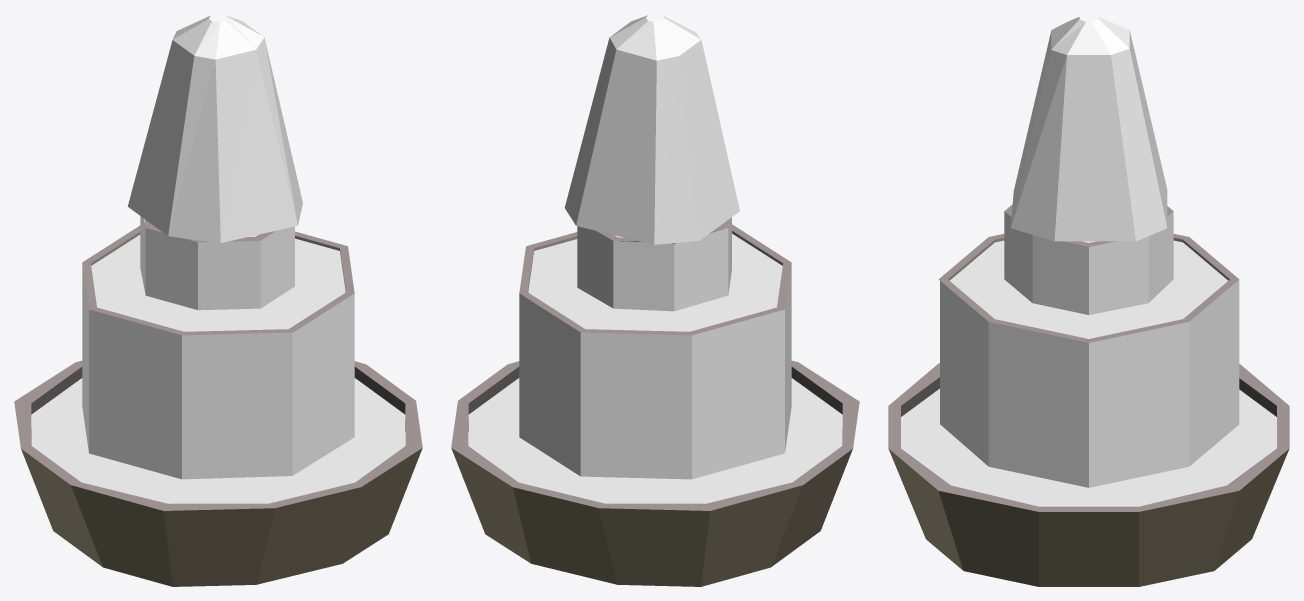
3 renders of one model, left to right at view 1: azimuth 30°, elevation 25°; view 2: azimuth 150°, elevation 25°; view 3: azimuth 270°, elevation 25°, orthographic.
Bounding box in the file's own units: 256 × 352 × 256.
Materials: 1 (1 with a texture image).
